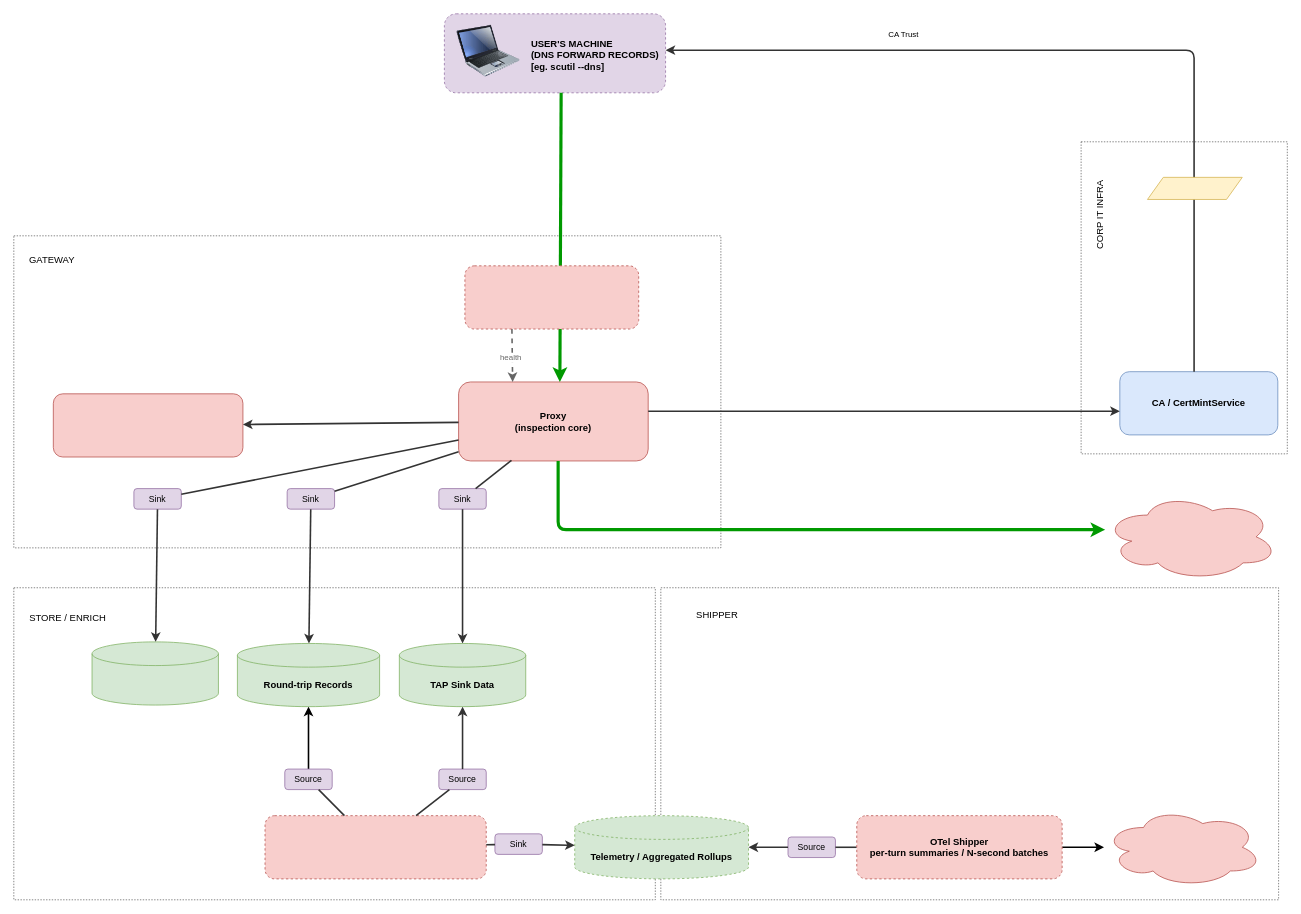
This 1301x914 diagram has some shape labels left out. The centre of each missing label's shape, as x and y in pixels:
Anthropic / OpenAI / ...: [1190,536]
Catelog "Dispatch Table" (per-cell inspection policy): [148,425]
Data Enrichment App (embellish · attribution resolver): [375,847]
MDM Push: [1194,188]
OTel Collector API: [1182,847]
Service Interface / LB watchdog, health-driven fail-open: [551,297]
Side Effects: [154,673]
